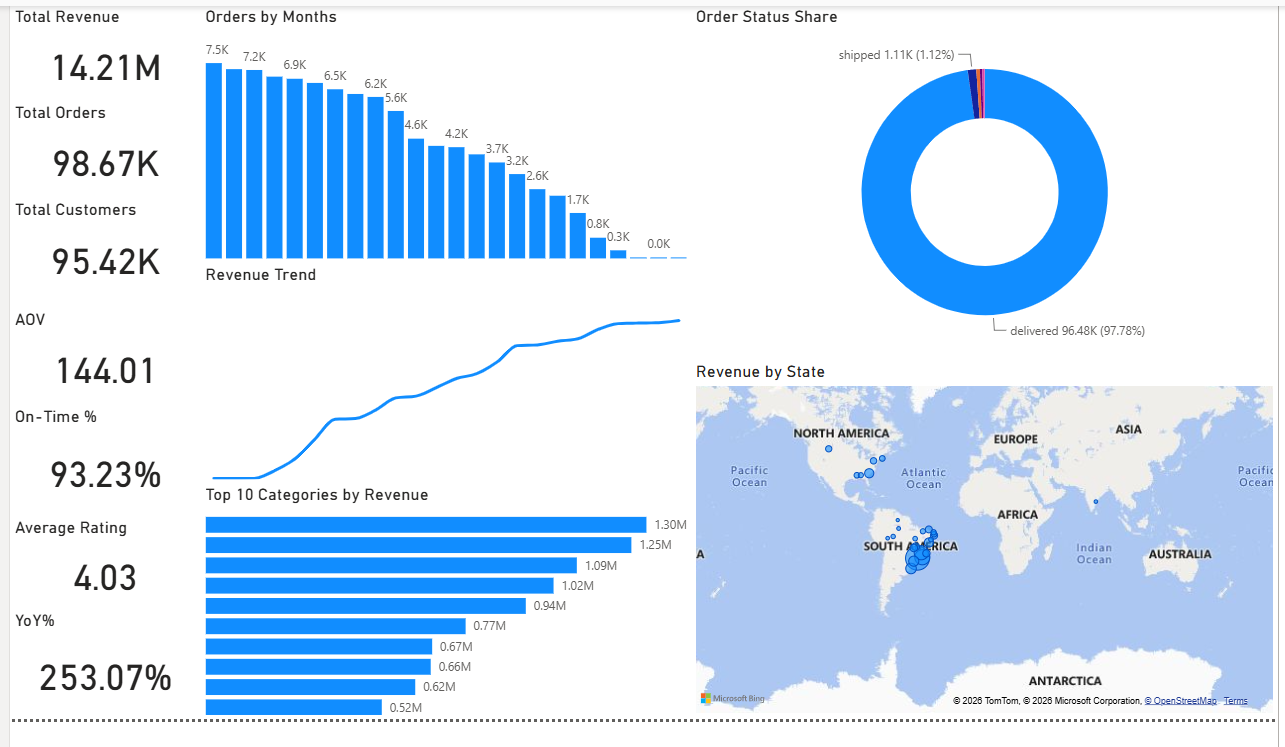

This screenshot's page, from the dashboard's own definition file:
{"tool":"powerbi","page":{"name":"Overview (Executive Dashboard)","canvas":[1280,720],"ordinal":0},"visuals":[{"type":"card","title":"Total Revenue","fields":{"Values":["public bi_fact_sales.Revenue"]},"box":[0,0,191.7,96.6],"z":0},{"type":"card","title":"Total Orders","fields":{"Values":["public bi_fact_sales.Orders"]},"box":[0,96.6,191.7,98.1],"z":1000},{"type":"card","title":"Total Customers","fields":{"Values":["public bi_fact_sales.Customers"]},"box":[0,194.7,191.7,98.1],"z":2000},{"type":"card","title":"AOV","fields":{"Values":["public bi_fact_sales.AOV"]},"box":[0,306.2,191.7,98.1],"z":3000},{"type":"card","title":"On-Time %","fields":{"Values":["public bi_fact_sales.On-time %"]},"box":[0,404.3,191.7,111.5],"z":4000},{"type":"card","title":"Average Rating","fields":{"Values":["public bi_fact_sales.Avg Rating"]},"box":[0,515.8,191.7,95.1],"z":5000},{"type":"card","title":"YoY%","fields":{"Values":["public bi_fact_sales.YoY %"]},"box":[0,610.9,191.7,108.5],"z":6000},{"type":"lineChart","title":"Revenue Trend","fields":{"Category":["DimDate.Year-Month"],"Y":["public bi_fact_sales.Revenue"]},"box":[191.7,260.5,495.8,222.1],"z":7000},{"type":"clusteredColumnChart","title":"Orders by Months","fields":{"Category":["DimDate.Year-Month"],"Y":["public bi_fact_sales.Orders"]},"box":[191.7,0,495.8,260.5],"z":8000},{"type":"barChart","title":"Top 10 Categories by Revenue","fields":{"Y":["public bi_fact_sales.Revenue"],"Category":["public bi_fact_sales.category"]},"box":[191.7,482.6,495.8,238],"z":9000},{"type":"map","title":"Revenue by State","fields":{"Category":["public bi_fact_sales.customer_state"],"Size":["public bi_fact_sales.Revenue"]},"box":[687.5,359.6,592.3,359.6],"z":10000},{"type":"donutChart","title":"Order Status Share","fields":{"Category":["public bi_fact_sales.order_status"],"Y":["public bi_fact_sales.Orders"]},"box":[687.5,0,592.3,355.7],"z":11000}]}

Visuals, with their boxes on the page's 1280x720 design canvas (x1, y1, x2, y2). These are canvas units, not pixel positions in the 1285x747 screenshot, which may show the page scaled, cropped or inside an application window:
"Total Revenue" card: x1=0 y1=0 x2=192 y2=97
"Total Orders" card: x1=0 y1=97 x2=192 y2=195
"Total Customers" card: x1=0 y1=195 x2=192 y2=293
"AOV" card: x1=0 y1=306 x2=192 y2=404
"On-Time %" card: x1=0 y1=404 x2=192 y2=516
"Average Rating" card: x1=0 y1=516 x2=192 y2=611
"YoY%" card: x1=0 y1=611 x2=192 y2=719
"Revenue Trend" lineChart: x1=192 y1=260 x2=688 y2=483
"Orders by Months" clusteredColumnChart: x1=192 y1=0 x2=688 y2=260
"Top 10 Categories by Revenue" barChart: x1=192 y1=483 x2=688 y2=721
"Revenue by State" map: x1=688 y1=360 x2=1280 y2=719
"Order Status Share" donutChart: x1=688 y1=0 x2=1280 y2=356
